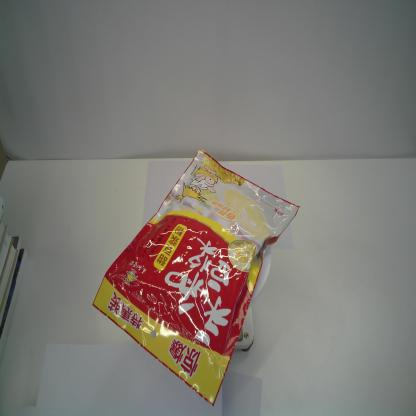Instant Drink: (91, 146, 302, 408)
